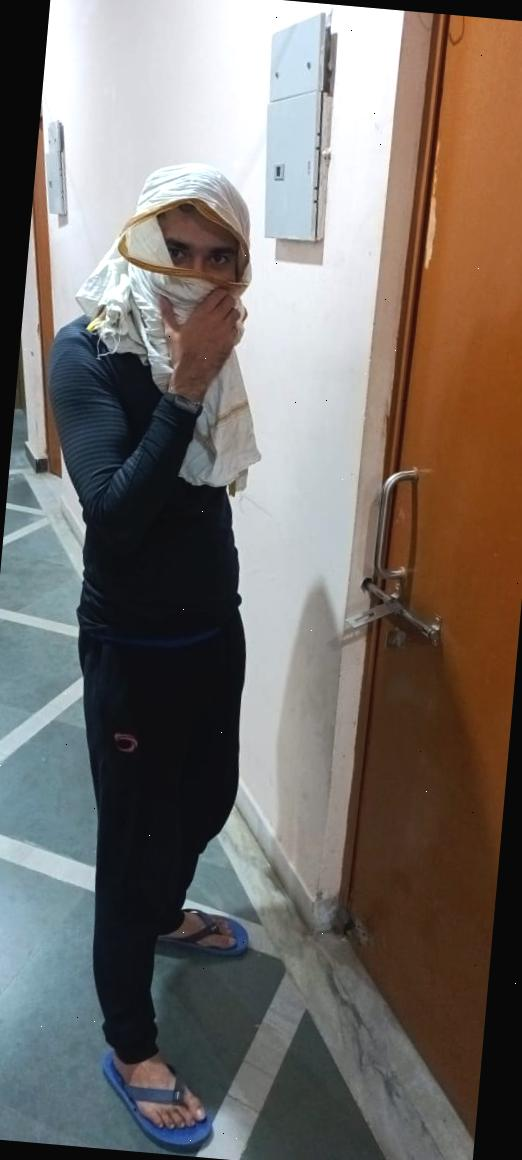suspicion: (0, 156, 383, 1160)
